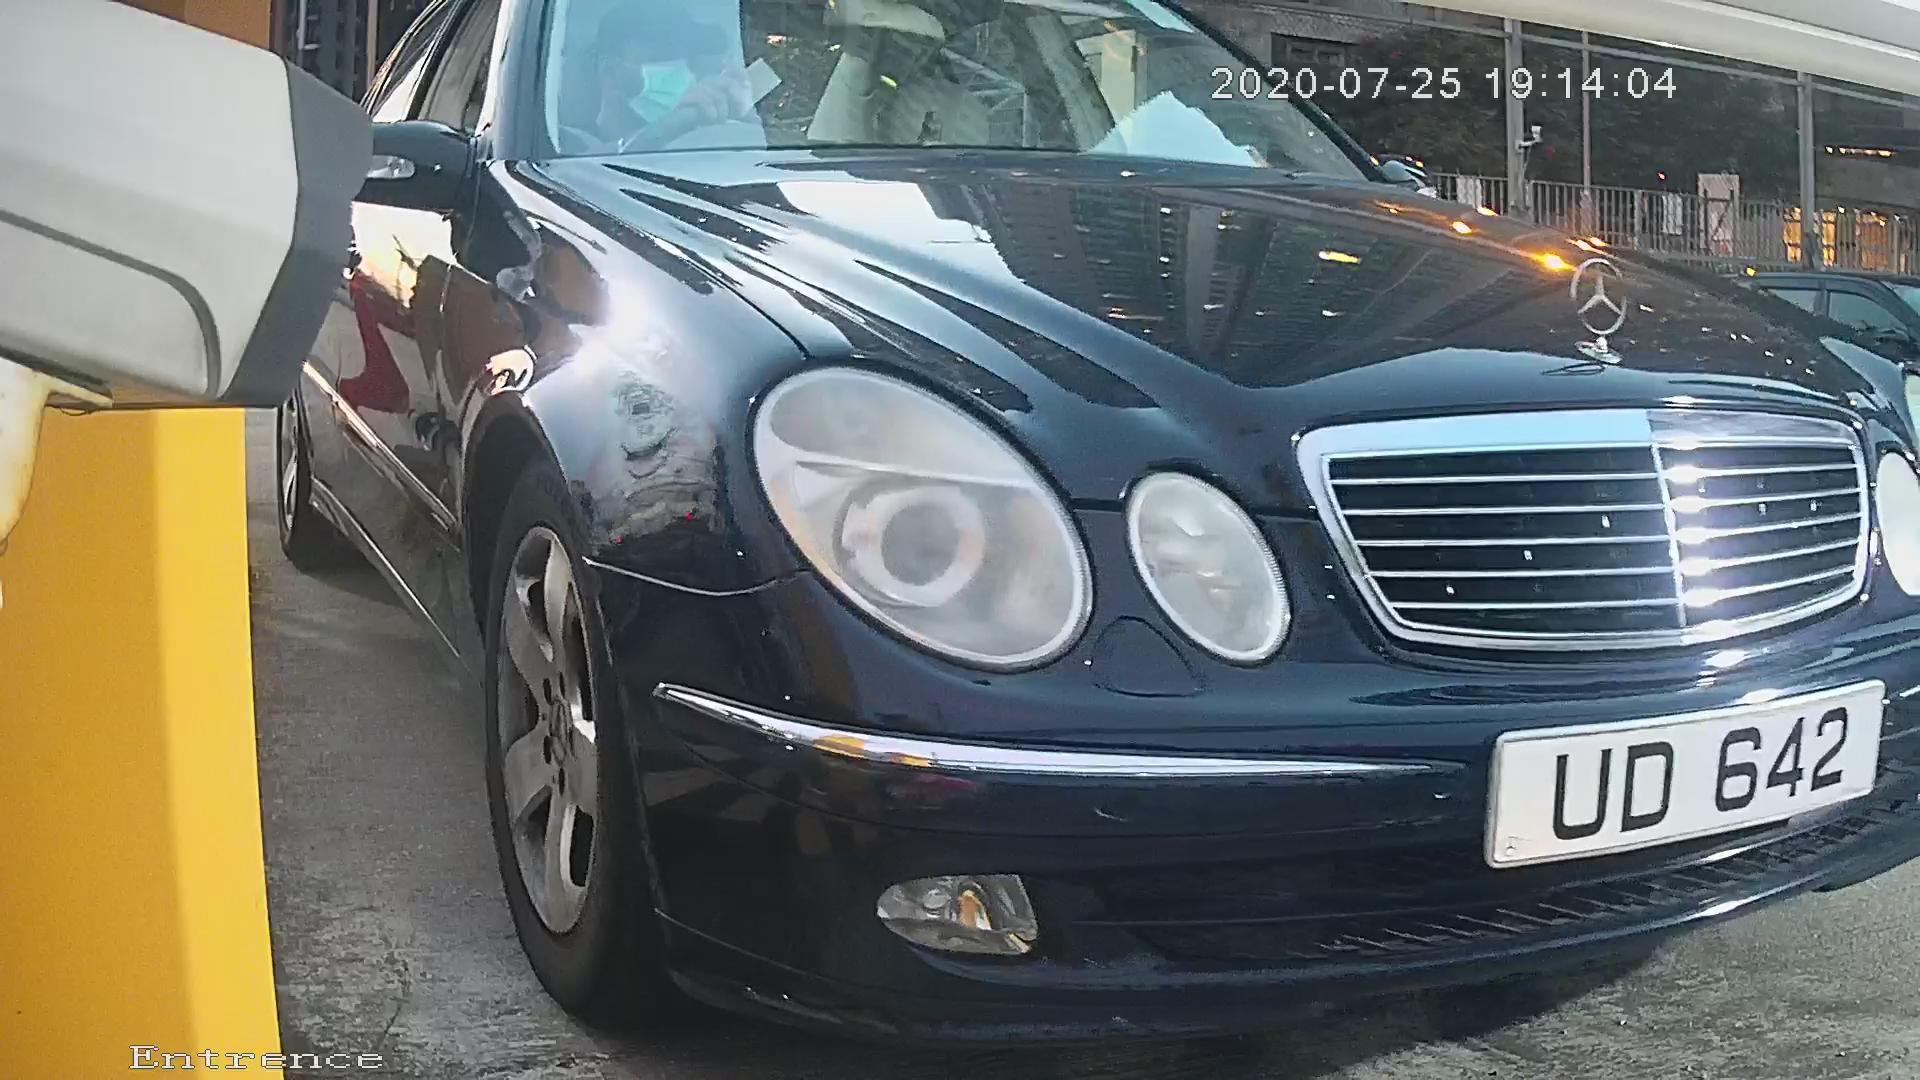privatecar: (294, 1, 1917, 1040)
